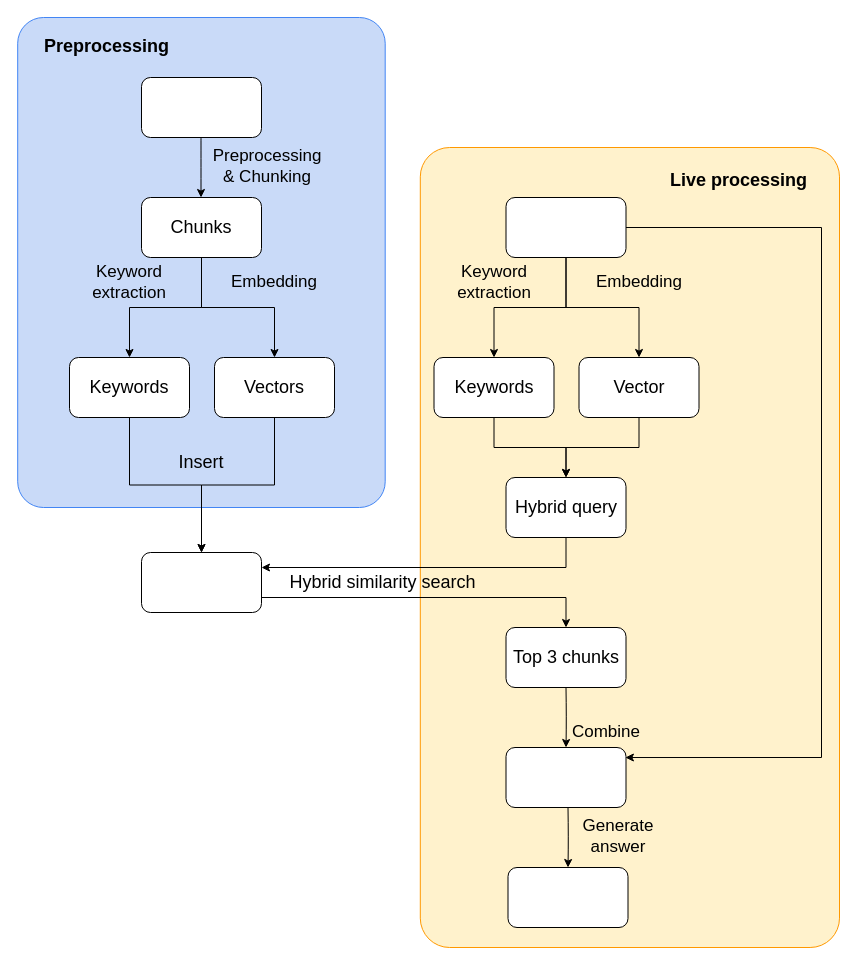
Image size: 857x965. Some labels were removed from this diagram. The shapes that lost their labels are listed below. From the top down, each one's centre as x and y in pixels, then its label:
At (x=201, y=107): "Zenya Data".
At (x=565, y=227): "Question".
At (x=201, y=582): "Hybrid Vector Database".
At (x=565, y=777): "Prompt".
At (x=567, y=897): "Answer".
